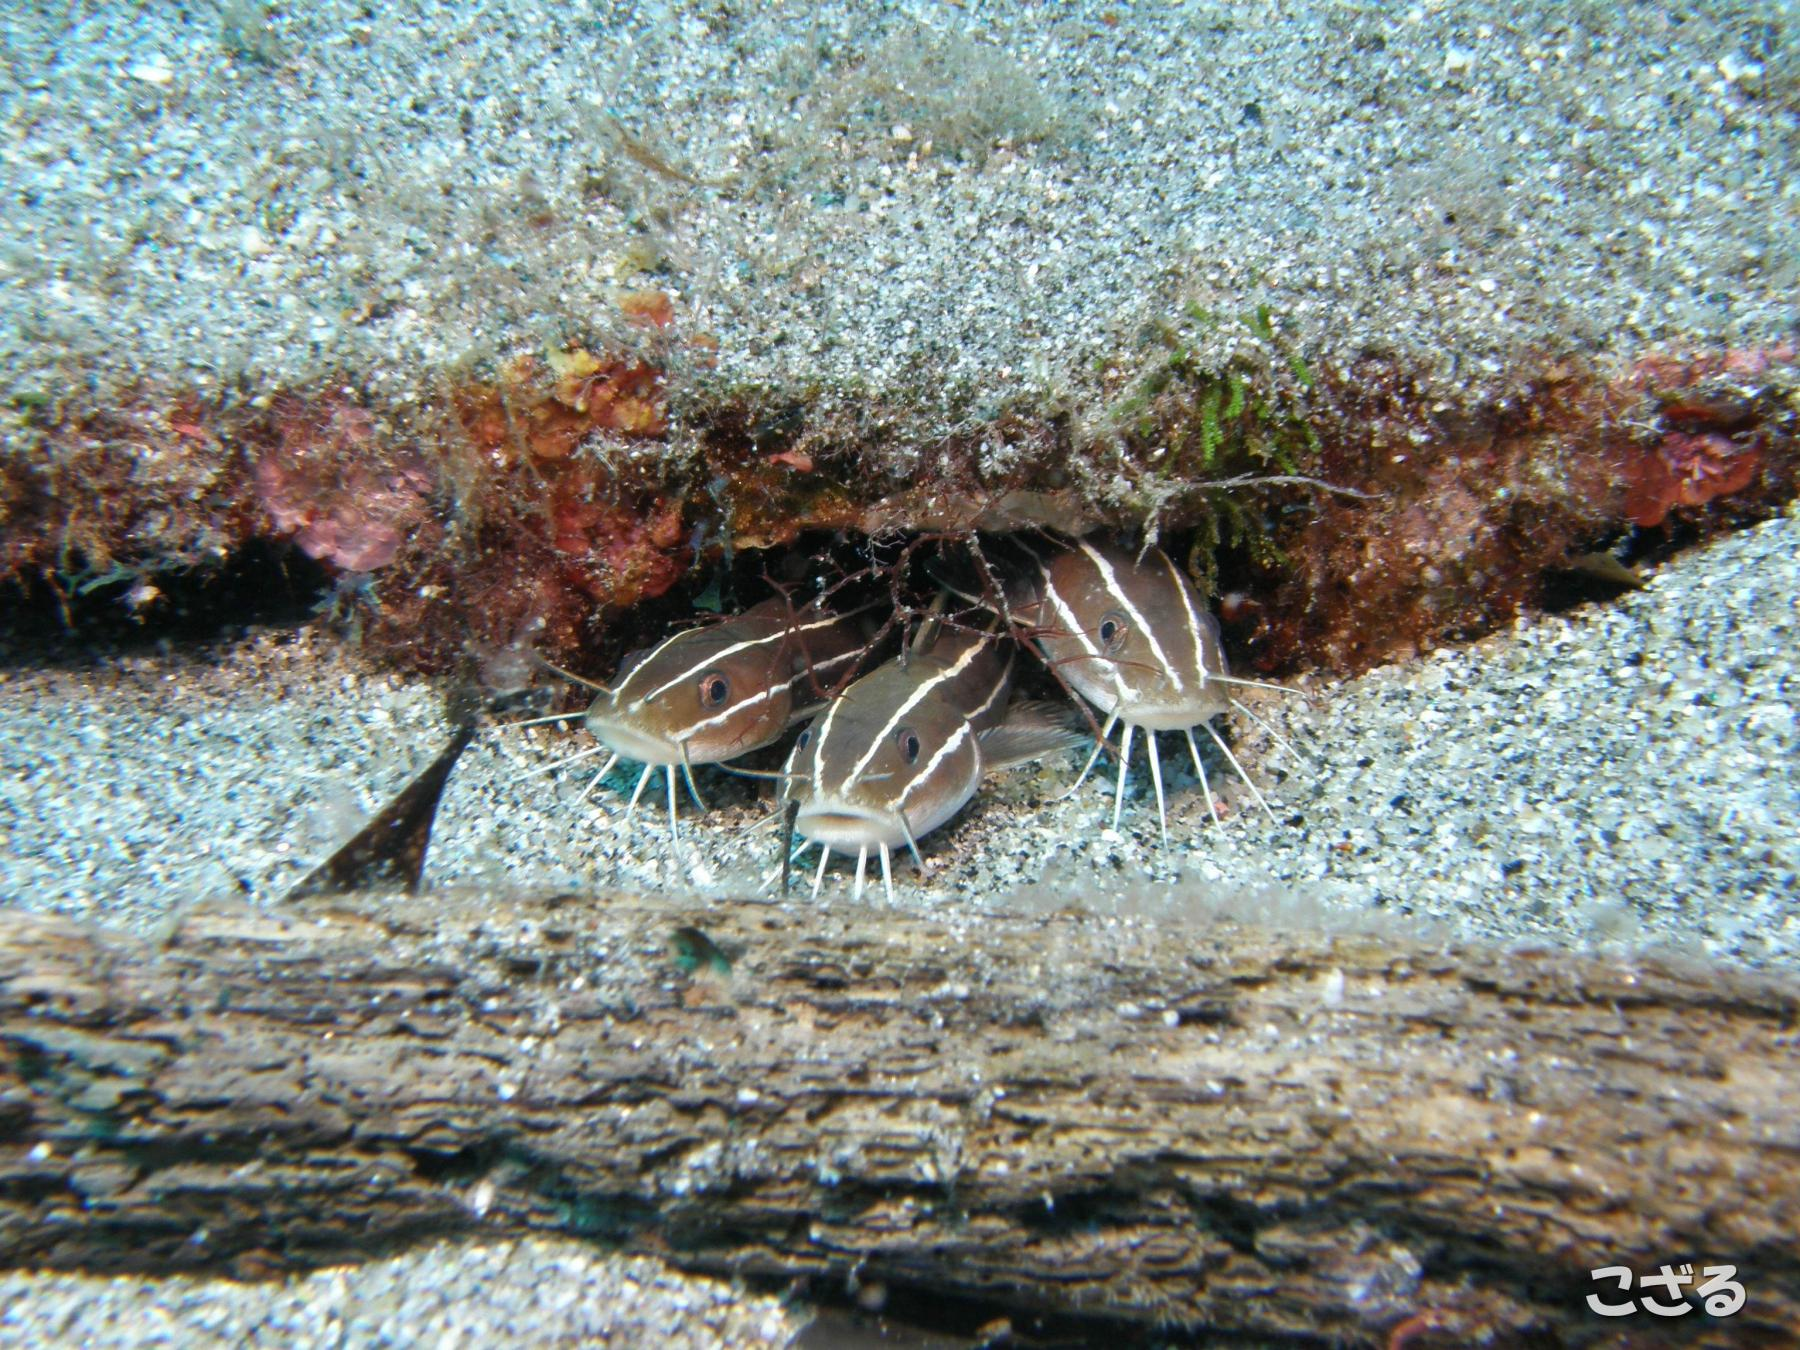gonzui: (1022, 519, 1301, 783), (787, 607, 1006, 868)
